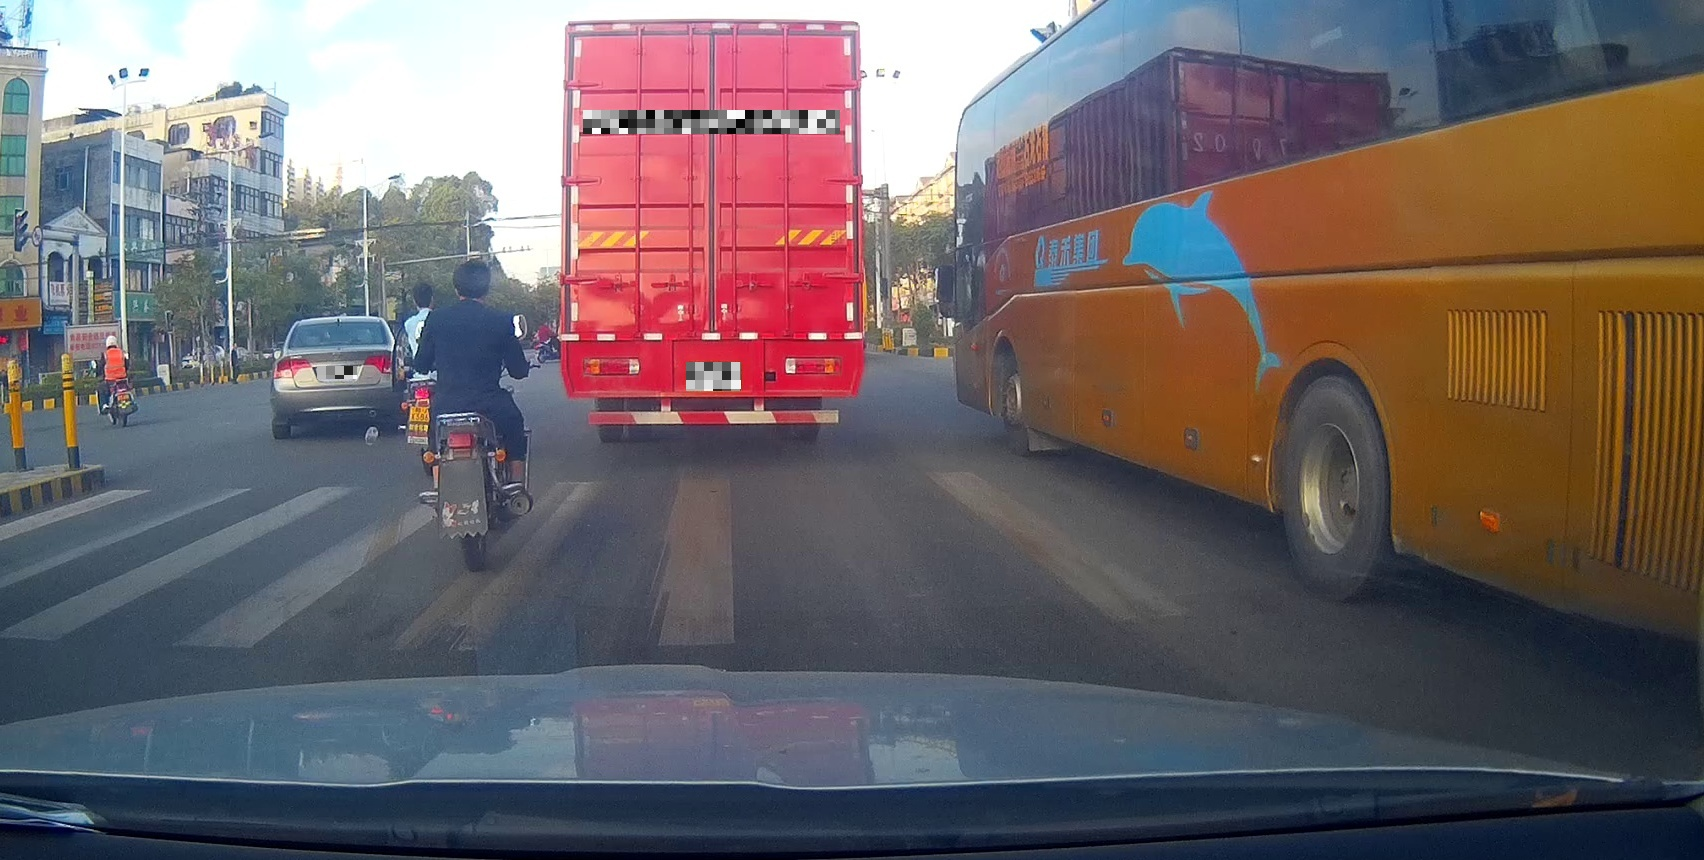L_light: (583, 357, 640, 375), (272, 358, 313, 380)
R_light: (784, 357, 840, 375), (363, 355, 397, 373)
T_light: (691, 24, 732, 36), (333, 320, 347, 325)
day-left: (269, 316, 405, 438)
day-no: (559, 18, 865, 445)
plate_1: (317, 366, 357, 380)
plate_2: (583, 110, 840, 134)
plate_3: (686, 362, 741, 391)
